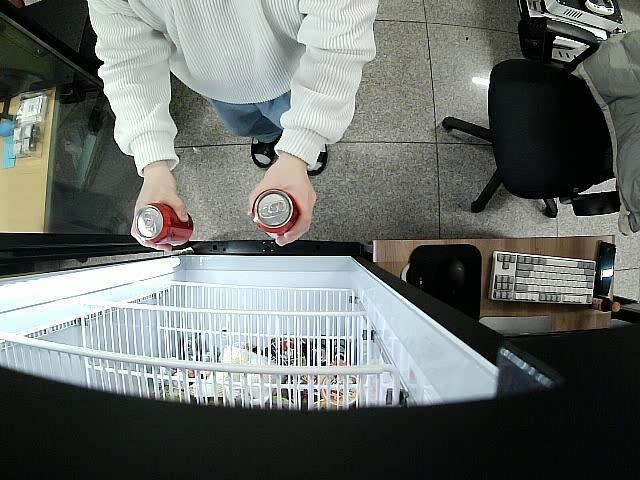11_cocaColaZero: (133, 202, 194, 246), (252, 189, 298, 233)
